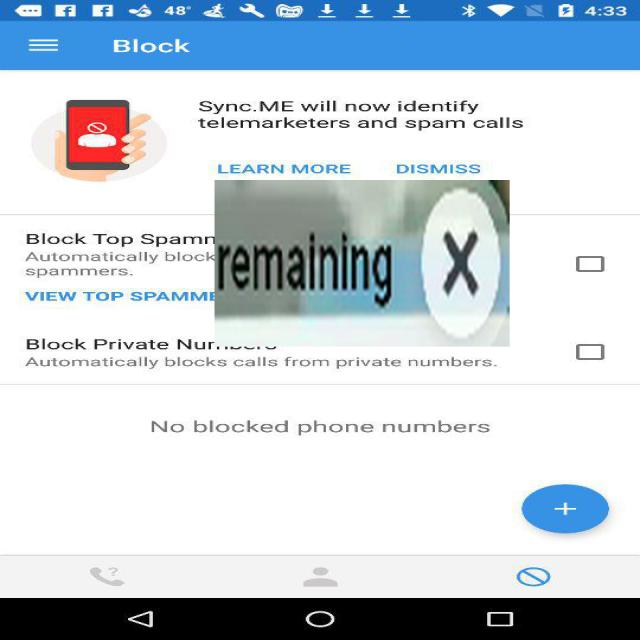misdirection: (215, 180, 510, 347)
